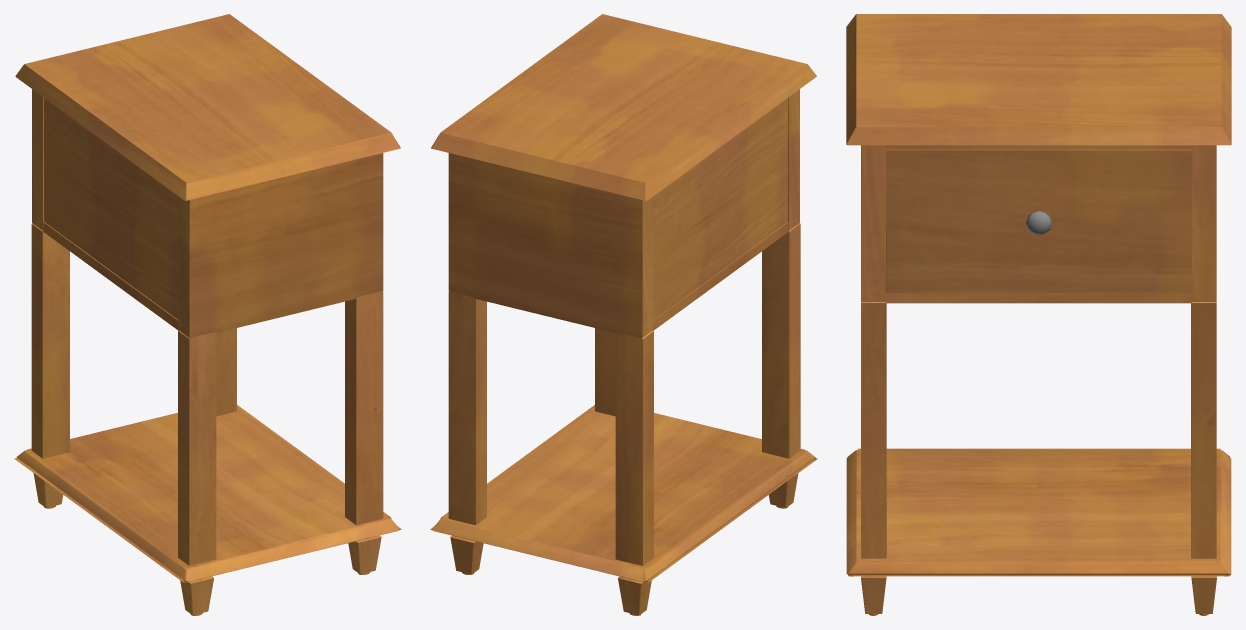
File: nightstand.fbx
3 views of the same model, side by side, from view 1: azimuth 30°, elevation 25°; view 2: azimuth 150°, elevation 25°; view 3: azimuth 270°, elevation 25° (orthographic). The views are drawn at different scales.
Visible parts, largest first — view 1: Icosphere; view 2: Icosphere; view 3: Icosphere.
Part boxes in pixels (bbox=[...]): Icosphere: bbox=[14, 14, 401, 615]; Icosphere: bbox=[430, 14, 817, 615]; Icosphere: bbox=[846, 14, 1231, 615].
Size of the model in its own units: 2.92 by 5.6 by 3.93.
2 materials, 1 textured.
